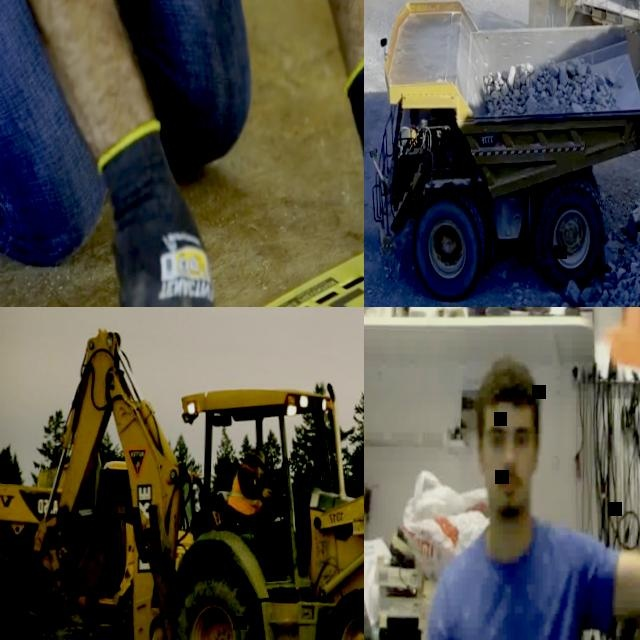Hardhat: (246, 446, 266, 464)
NO-Hardhat: (475, 359, 540, 420)
NO-Mask: (487, 472, 530, 515), (251, 467, 261, 481)
NO-Safety Vest: (452, 527, 573, 640)
Person: (0, 0, 364, 307), (418, 351, 640, 640), (223, 444, 285, 583)
Safety Vest: (225, 463, 263, 514)
machinery: (25, 325, 364, 640), (364, 0, 640, 303), (0, 449, 198, 640), (516, 0, 640, 163)
